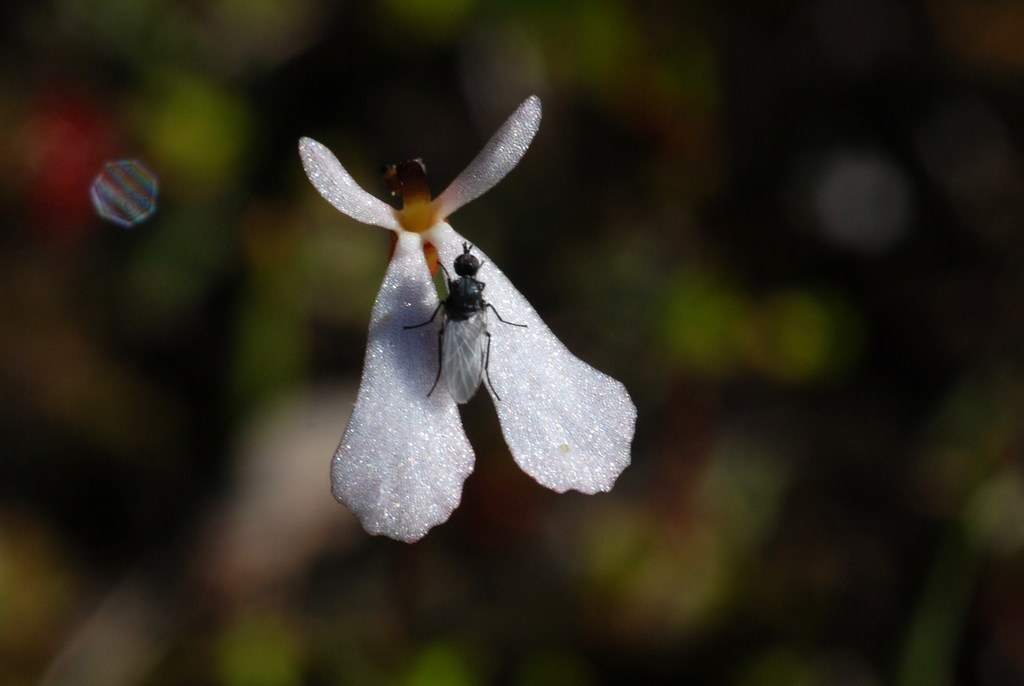insect: (403, 241, 525, 399)
